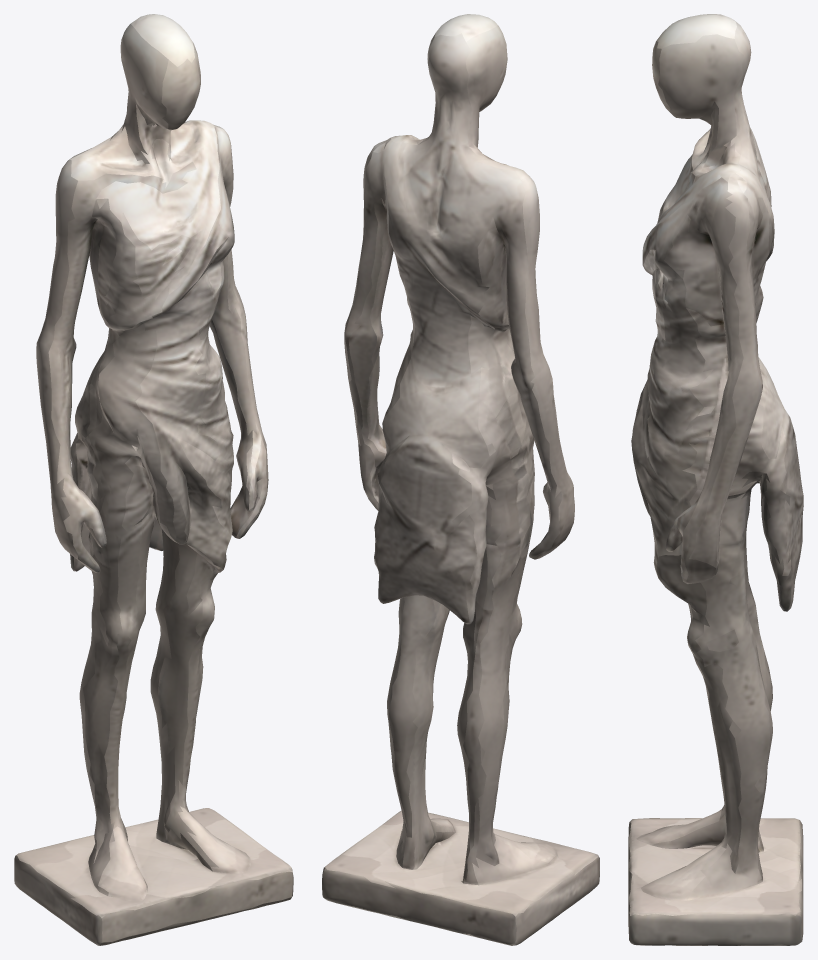
The model's file is charge_pale.glb.
3 renders of one model, left to right at view 1: azimuth 30°, elevation 25°; view 2: azimuth 150°, elevation 25°; view 3: azimuth 270°, elevation 25°, orthographic.
Parts seen in each view (by area): view 1: geometry_0; view 2: geometry_0; view 3: geometry_0.
Boxes of the visible parts, <box> form: geometry_0: <box>14,14,293,945</box>; geometry_0: <box>322,14,599,945</box>; geometry_0: <box>628,14,803,945</box>.
Size of the model in its own units: 0.2386 by 0.95 by 0.1713.
1 material, 1 textured.
